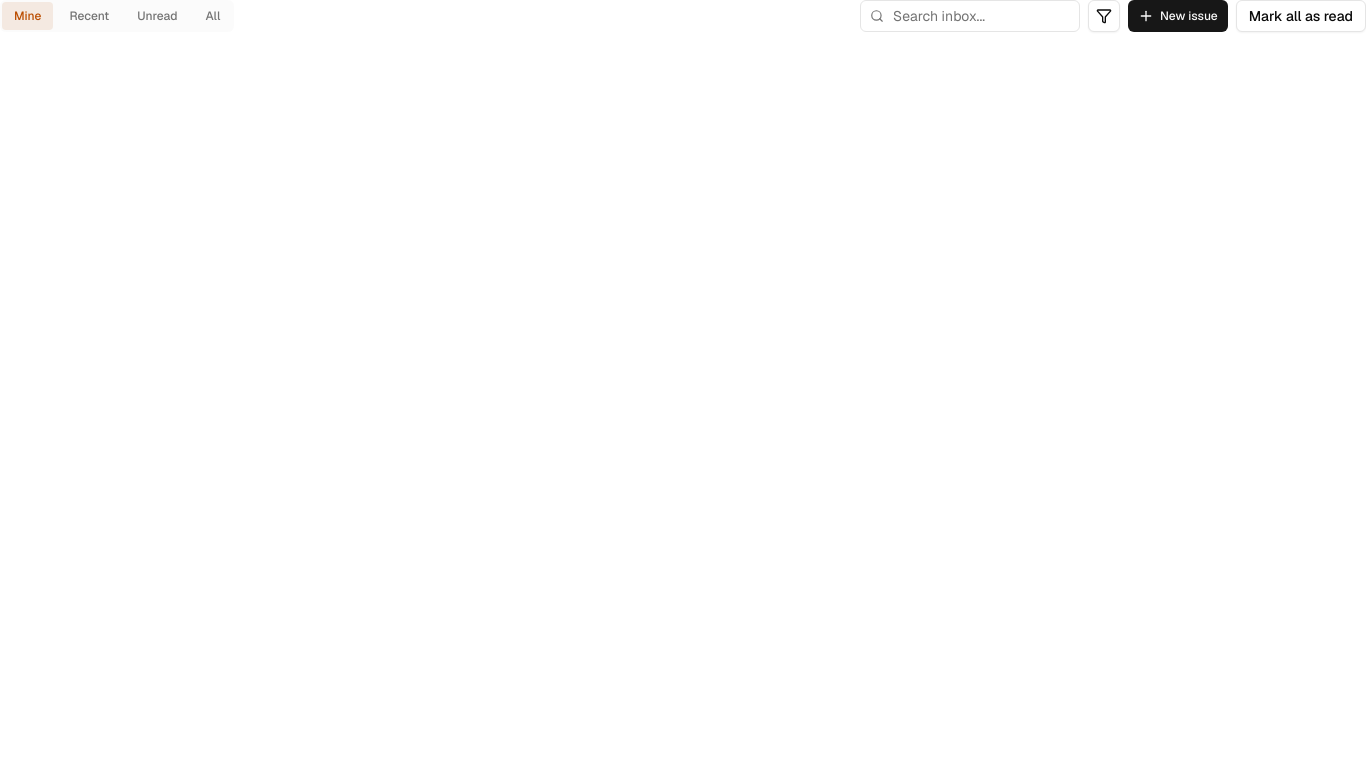
Scenario: InboxToolbar › Mark all dialog text shows the count
The image size is (1366, 768).
Click the button "Mark all as read": (1301, 16) [1236,0,1365,32]
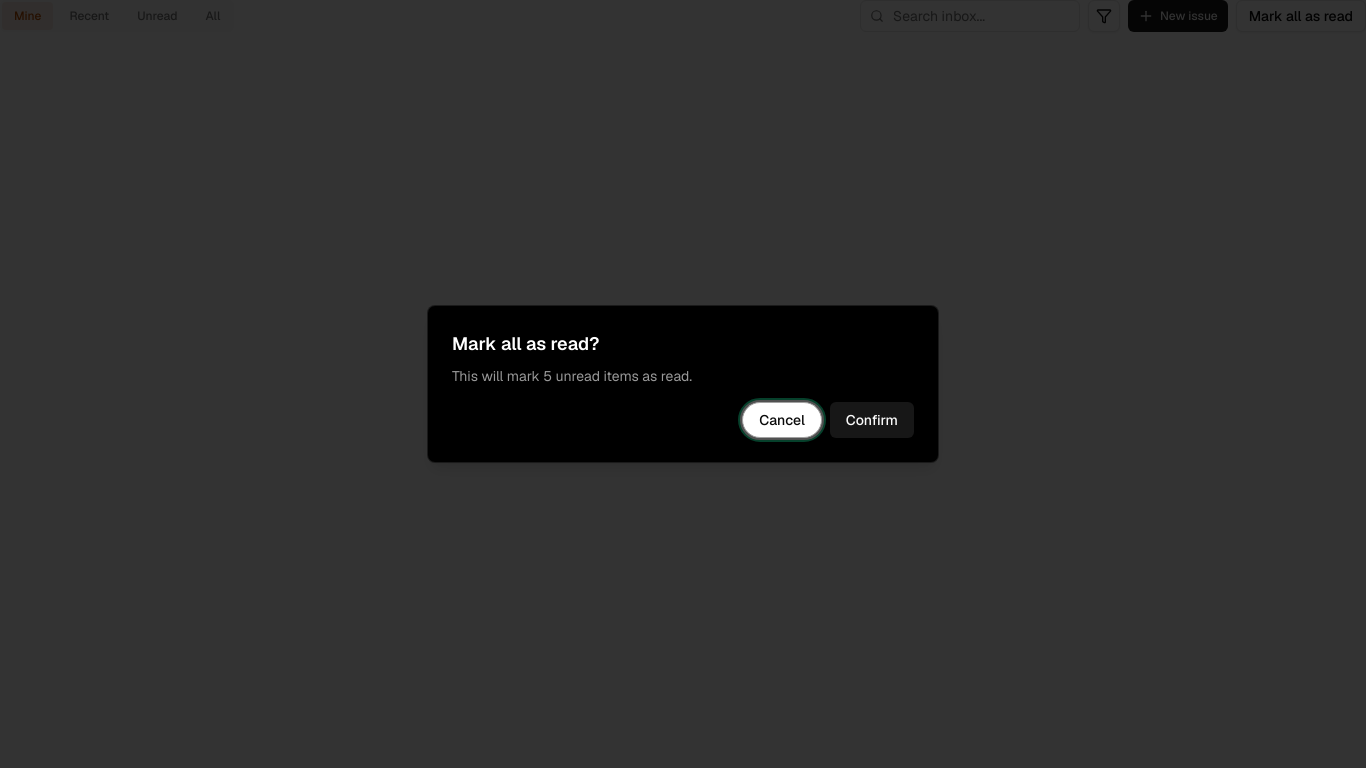
expect the text "This will mark 5 unread items as read." is shown: met, box [452,367,692,385]
